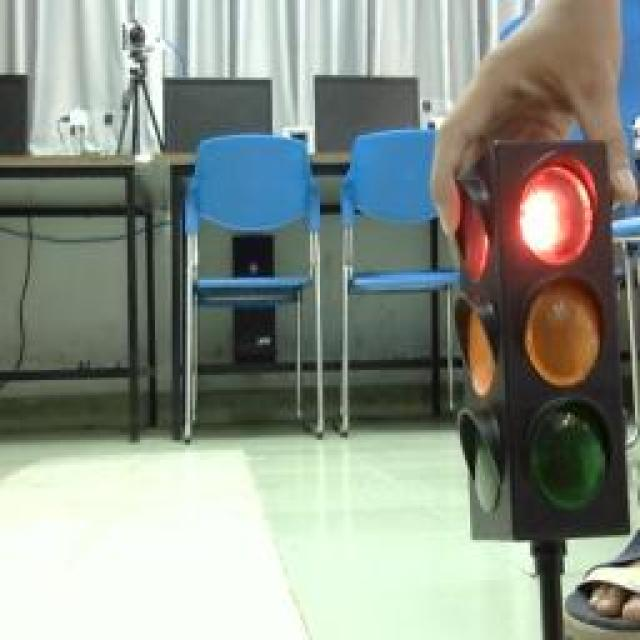-: (510, 147, 607, 270)
